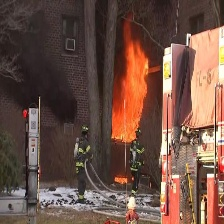fire: (111, 18, 150, 185)
smoke: (1, 11, 80, 122)
